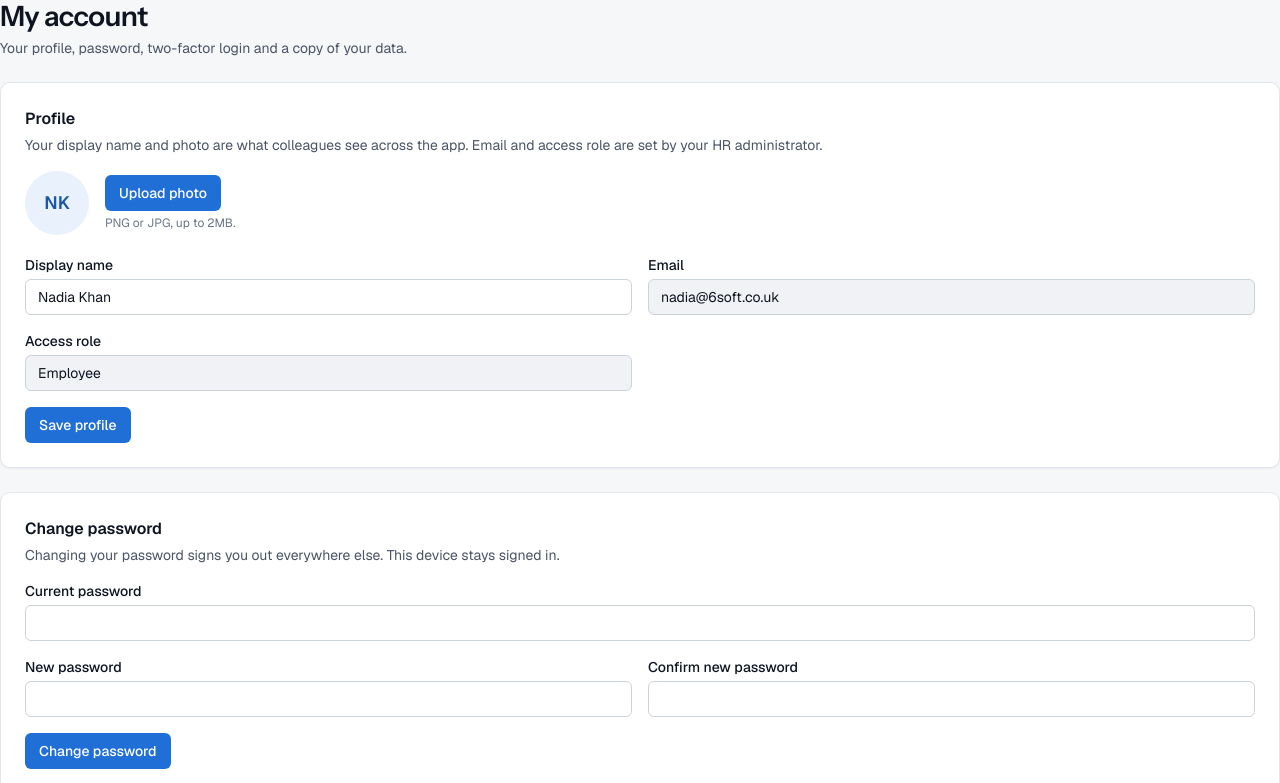
Test: Account page › surfaces a wrong current password
This screenshot has width=1280, height=783.
Type "oldpassword" into the password field labelled "Current password" at {"x": 640, "y": 623}, box [25,605,1255,641]
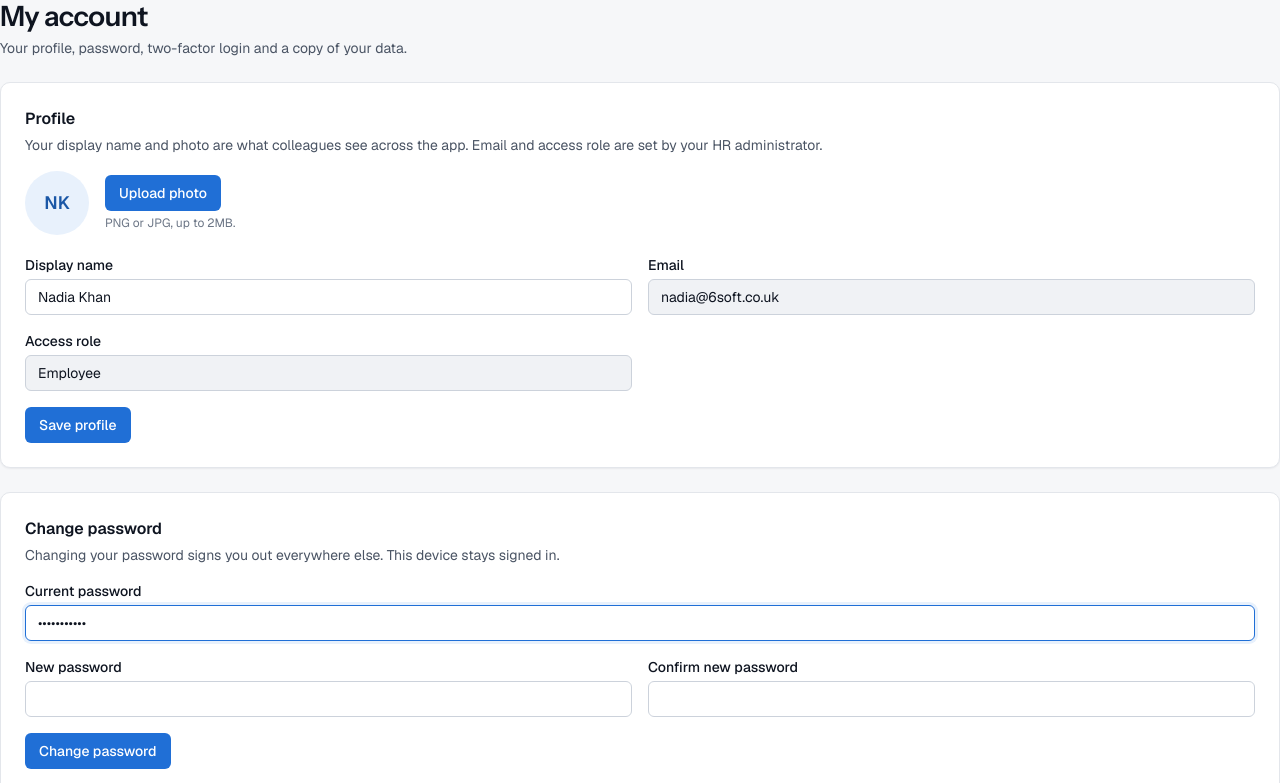
Type "longenough1" into the password field labelled "New password" at {"x": 328, "y": 699}, box [25,681,632,717]
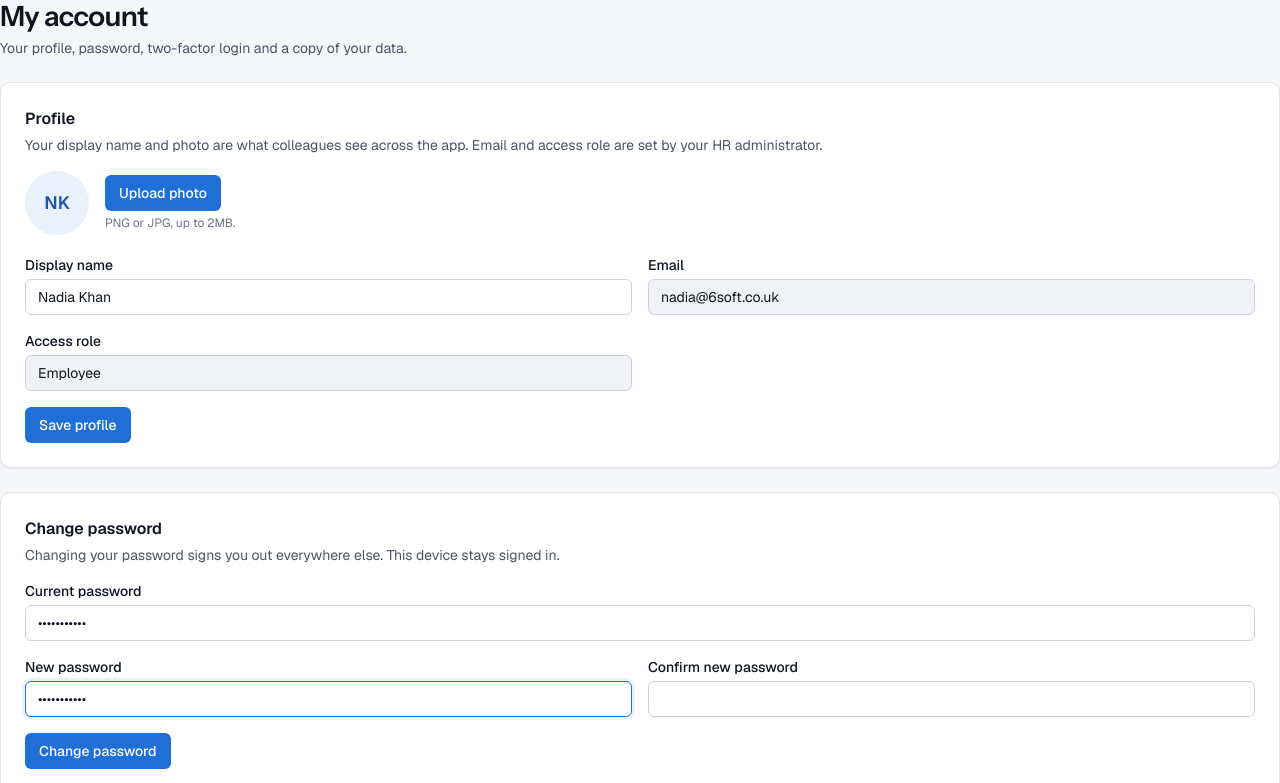
Type "longenough1" into the password field labelled "Confirm new password" at {"x": 952, "y": 699}, box [648,681,1255,717]
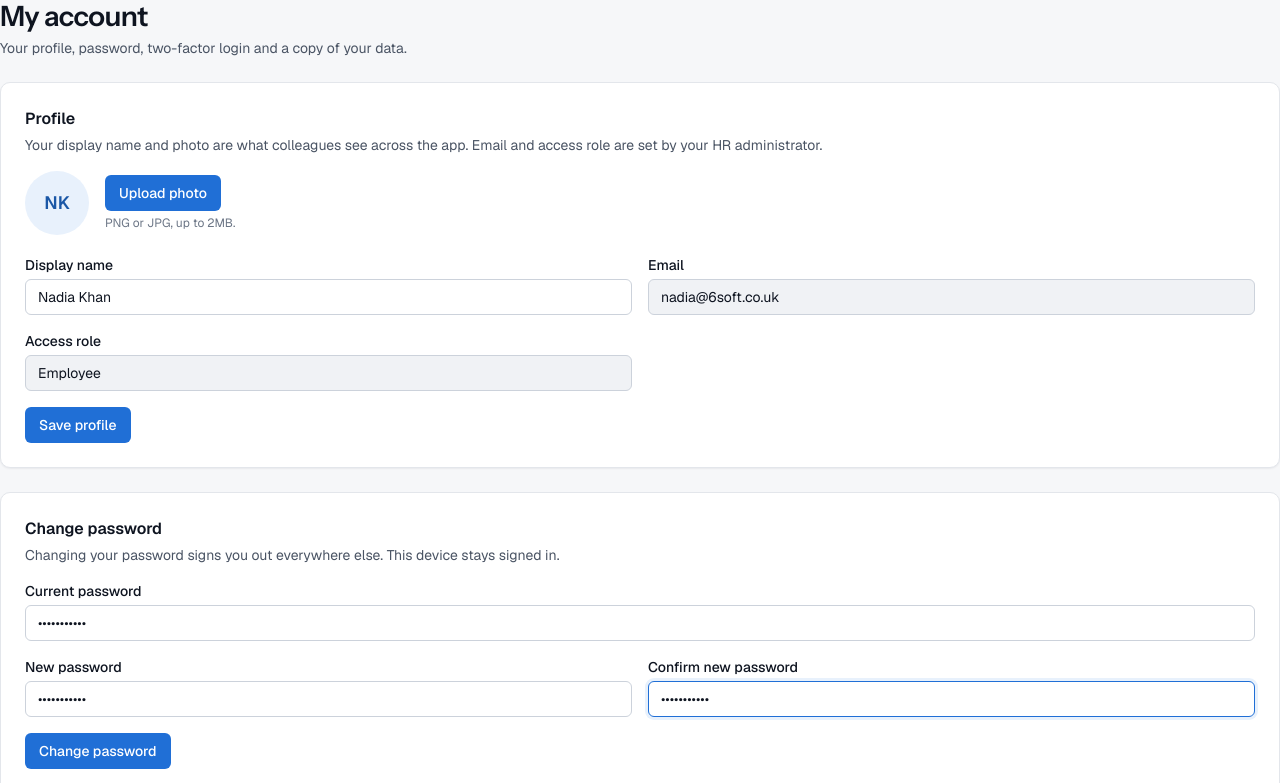
Click the button "Change password" at {"x": 98, "y": 751}, box [25,733,170,769]
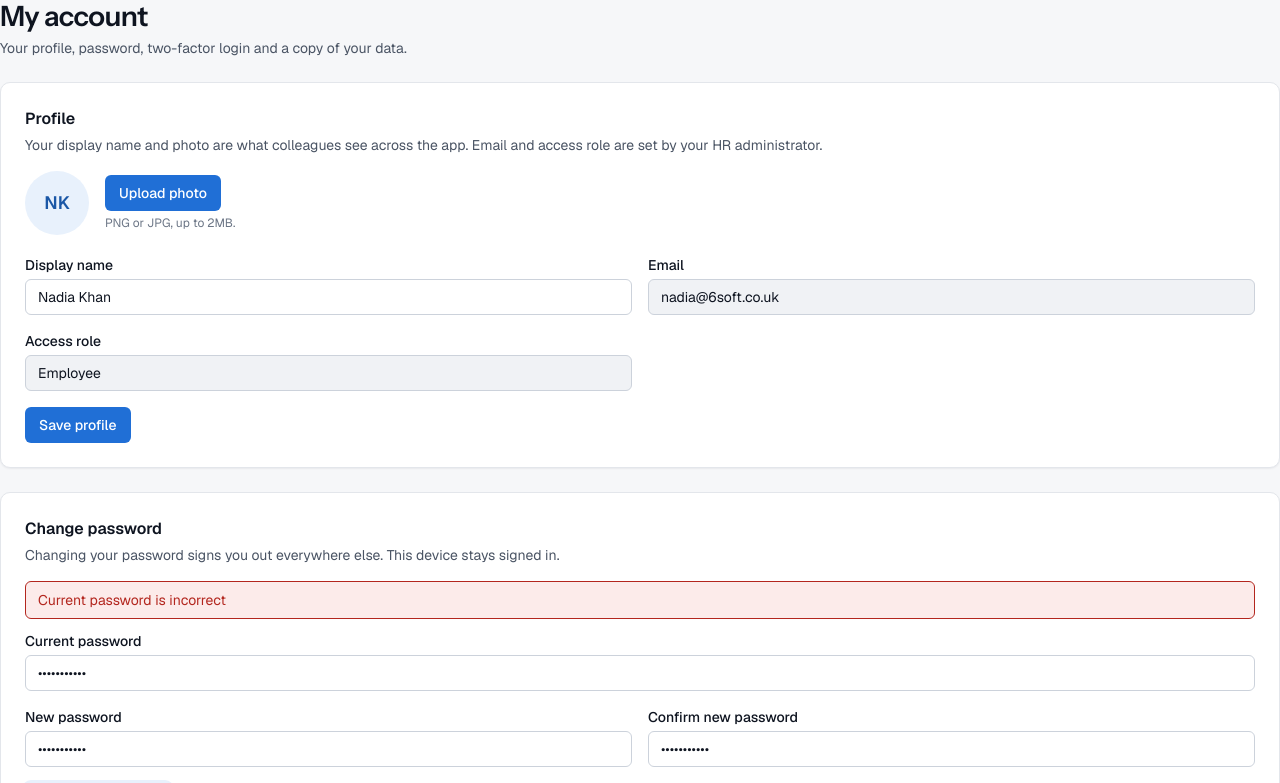
Check: the text "Current password is incorrect" is shown, box [25,581,1255,619]
